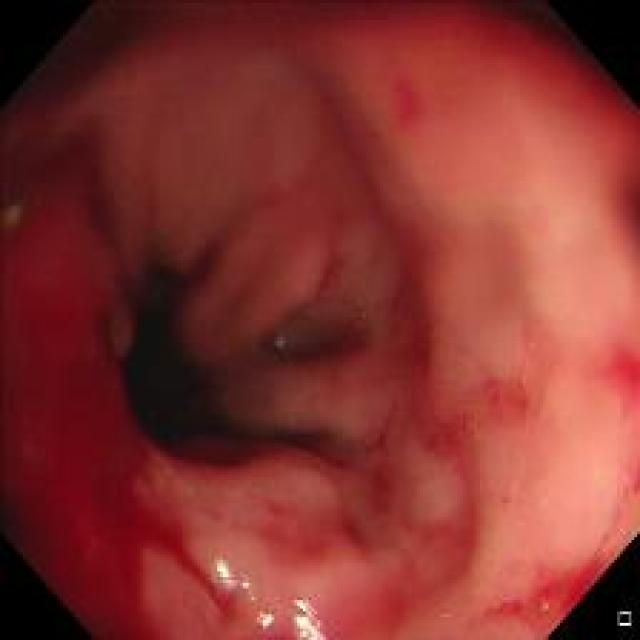blood: (8, 314, 175, 626), (370, 200, 484, 546), (492, 552, 586, 618)
blur: (4, 2, 632, 636)
color misalignment: (298, 595, 324, 630), (4, 198, 30, 229), (272, 330, 296, 359), (216, 560, 236, 590), (258, 612, 275, 628)
contrast: (88, 225, 334, 488), (8, 5, 132, 118)
specularity: (210, 558, 258, 594), (289, 596, 328, 638), (249, 609, 278, 630)
